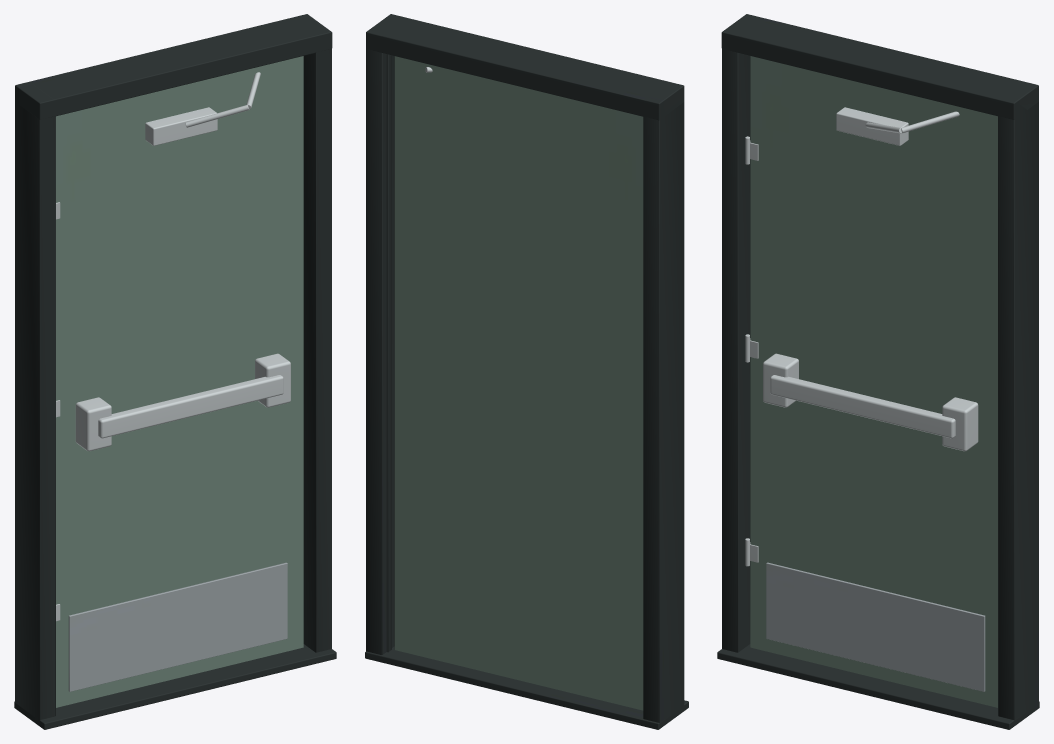
File: egress-panic-bar-exit-door.glb
The picture shows the model from 3 angles, left to right: view 1: azimuth 30°, elevation 25°; view 2: azimuth 150°, elevation 25°; view 3: azimuth 330°, elevation 25°; orthographic projection.
Visible parts, largest first — view 1: Exit | reinforced steel leaf, Frame | jamb, Frame | jamb.001, Exit | lower kick plate, Frame | header, Frame | sill, Exit | horizontal push bar, Exit | door closer, Exit | panic-bar end housing, Exit | panic-bar end housing.001; view 2: Exit | reinforced steel leaf, Frame | jamb, Frame | jamb.001, Frame | header, Frame | sill, Frame | door stop.001; view 3: Exit | reinforced steel leaf, Frame | jamb.001, Frame | jamb, Exit | lower kick plate, Frame | header, Frame | sill, Exit | horizontal push bar, Exit | door closer, Exit | panic-bar end housing.001, Exit | panic-bar end housing.
Boxes of the visible parts, box(x1,y1,x2,y2) form: Exit | reinforced steel leaf: box(56, 56, 303, 707); Frame | jamb: box(15, 81, 55, 725); Frame | jamb.001: box(292, 14, 331, 652); Exit | lower kick plate: box(68, 562, 287, 691); Frame | header: box(15, 14, 332, 119); Frame | sill: box(14, 644, 336, 729); Exit | horizontal push bar: box(98, 375, 283, 438); Exit | door closer: box(145, 107, 217, 145); Exit | panic-bar end housing: box(75, 397, 111, 451); Exit | panic-bar end housing.001: box(255, 353, 290, 407); Exit | reinforced steel leaf: box(394, 56, 643, 710); Frame | jamb: box(643, 81, 684, 722); Frame | jamb.001: box(366, 14, 394, 654); Frame | header: box(366, 14, 684, 120); Frame | sill: box(365, 646, 688, 729); Frame | door stop.001: box(386, 54, 391, 652); Exit | reinforced steel leaf: box(750, 56, 997, 707); Frame | jamb.001: box(998, 81, 1038, 720); Frame | jamb: box(722, 14, 761, 652); Exit | lower kick plate: box(766, 562, 985, 691); Frame | header: box(721, 14, 1038, 119); Frame | sill: box(717, 644, 1039, 729); Exit | horizontal push bar: box(770, 375, 955, 438); Exit | door closer: box(836, 107, 908, 145); Exit | panic-bar end housing.001: box(942, 397, 978, 451); Exit | panic-bar end housing: box(763, 353, 798, 407).
Size of the model in its own units: 1.08 by 2.19 by 0.265.
Materials: 4 (4 with a texture image).
